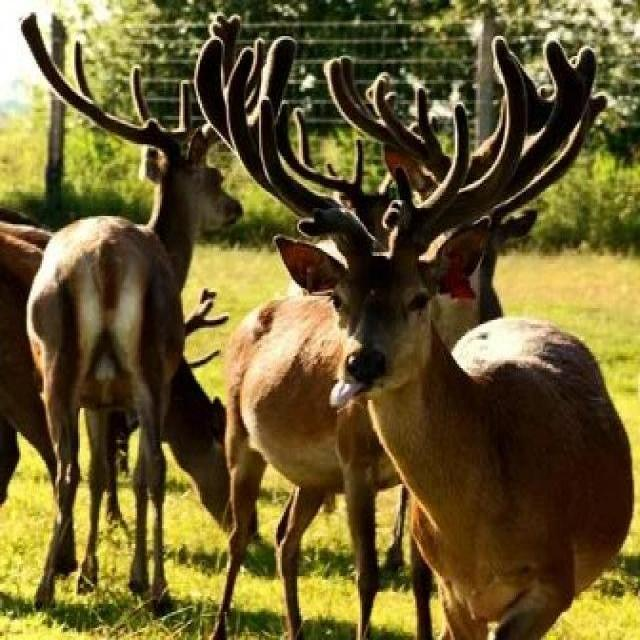deer: (317, 142, 640, 640)
